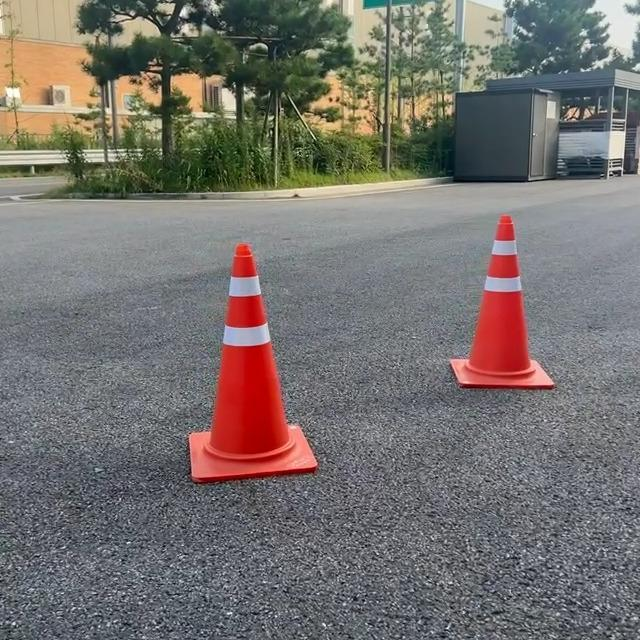fallen_object: (157, 236, 398, 489), (440, 193, 548, 360)
